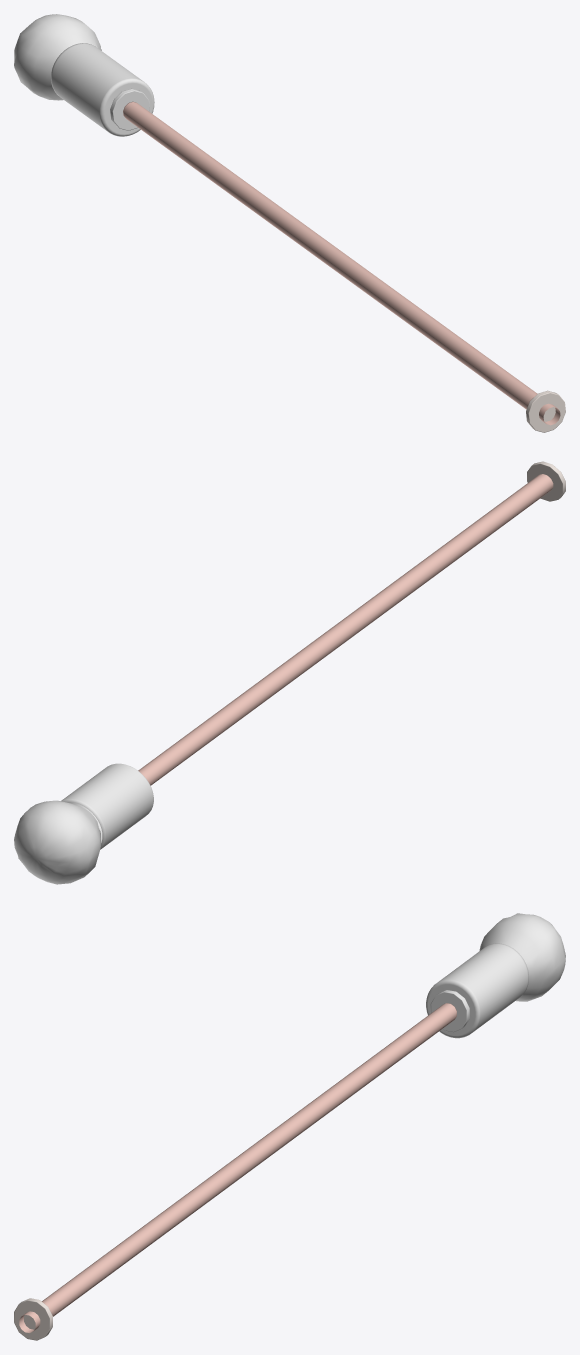
The model's file is branch.021_b.glb.
3 renders of one model, top to bottom at view 1: azimuth 30°, elevation 25°; view 2: azimuth 150°, elevation 25°; view 3: azimuth 330°, elevation 25°, orthographic.
Parts seen in each view (by area): view 1: MET-59_3D-Model.17671, MET-59_3D-Model.17670, glass.001, MET-59_3D-Model.17672; view 2: MET-59_3D-Model.17671, glass.001, MET-59_3D-Model.17670, MET-59_3D-Model.17672; view 3: MET-59_3D-Model.17671, MET-59_3D-Model.17670, glass.001, MET-59_3D-Model.17672.
Boxes of the visible parts, x1,y1,x2,y2 form: MET-59_3D-Model.17671: (123,101,560,425); MET-59_3D-Model.17670: (51,43,154,136); glass.001: (14,14,101,100); MET-59_3D-Model.17672: (526,390,565,432); MET-59_3D-Model.17671: (138,474,553,785); glass.001: (14,800,100,884); MET-59_3D-Model.17670: (61,763,153,849); MET-59_3D-Model.17672: (527,461,565,501); MET-59_3D-Model.17671: (19,1003,456,1332); MET-59_3D-Model.17670: (426,943,528,1038); glass.001: (479,913,565,1001); MET-59_3D-Model.17672: (14,1298,52,1340).
Bounding box in the file's own units: 0.0496 × 0.0475 × 0.5796.
